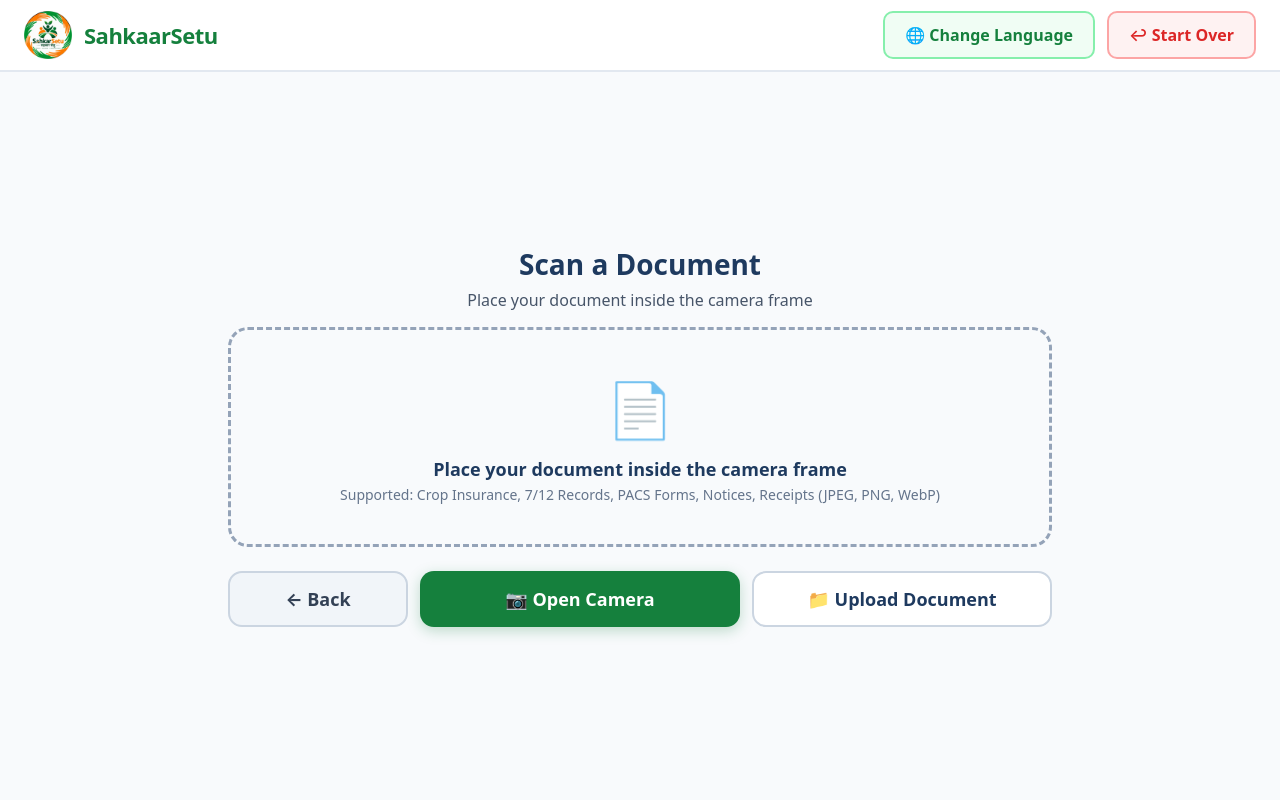
K6: Document Scan & Vision Integration › handles camera permission rejection and displays user-friendly alert
Click the button "📷 Open Camera": (580, 599) [420,571,740,627]
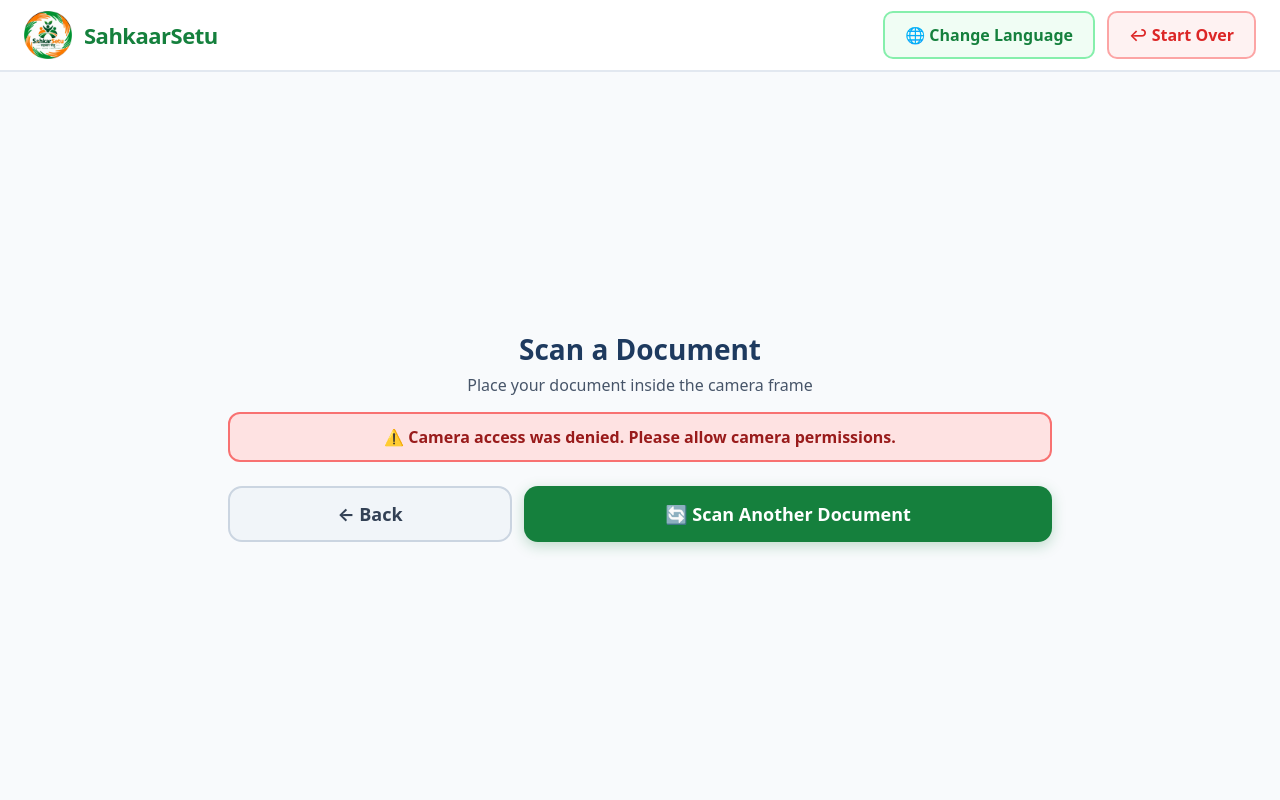
Check: the text "⚠️ Camera access was denied. Please allow camera permissions." is shown, box [228,412,1052,462]
